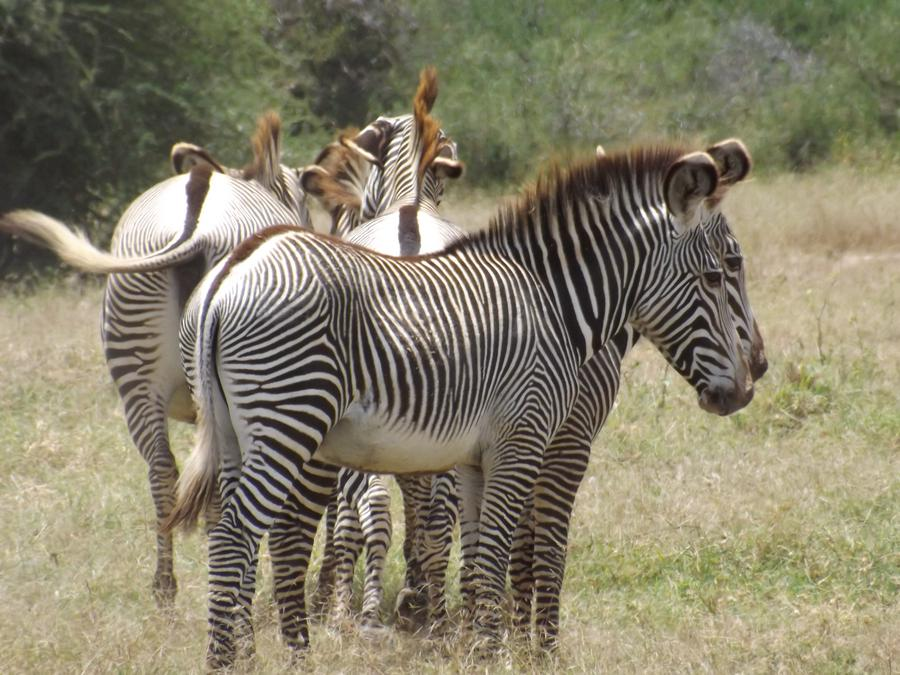zebra_grevys: (178, 235, 554, 448)
